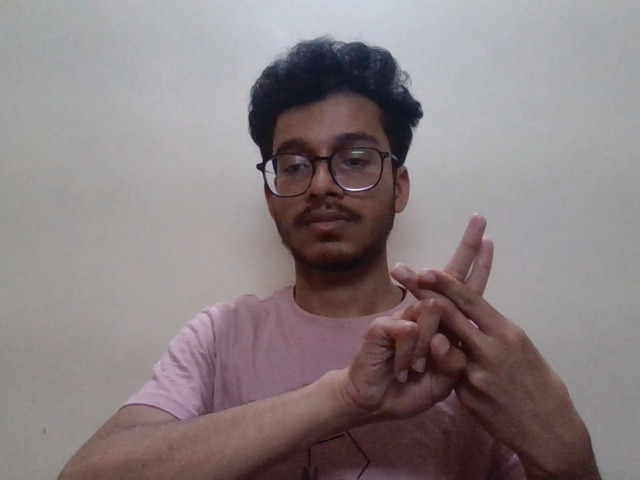disabled: (337, 201, 596, 450)
